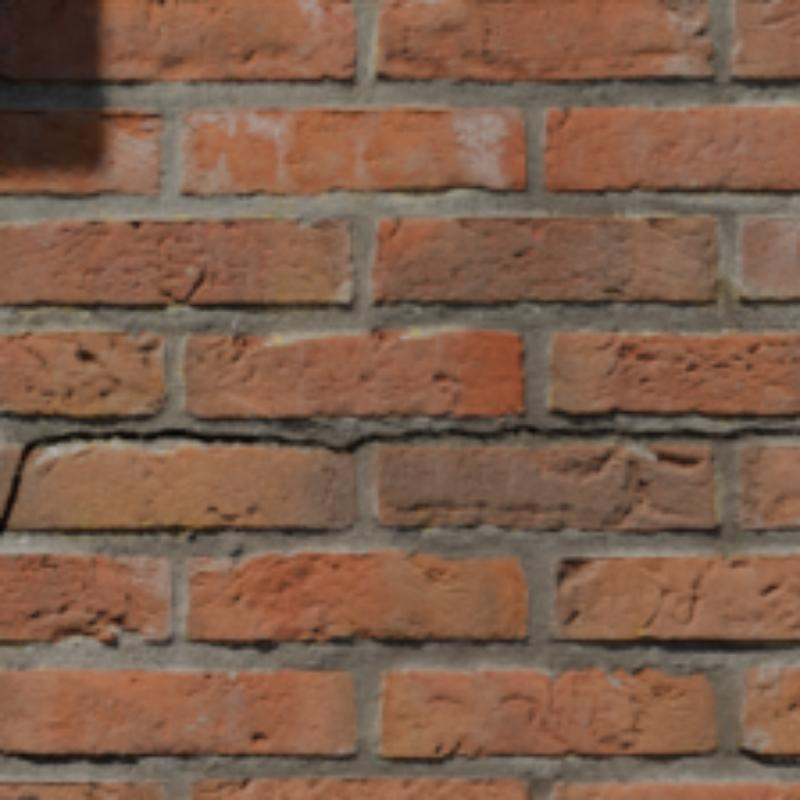crack: (0, 421, 796, 532)
